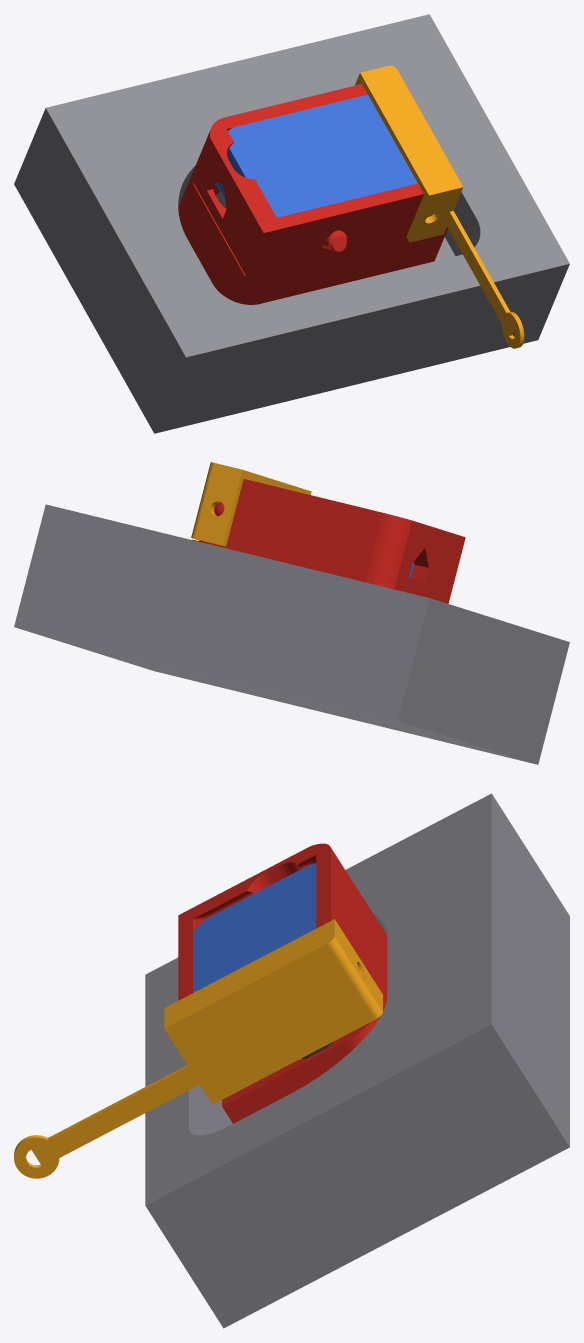
Rendered from dragy_assembly_v4.obj.
3 views of the same model, one above another, from view 1: azimuth 30°, elevation 25°; view 2: azimuth 150°, elevation 25°; view 3: azimuth 270°, elevation 25° (orthographic). The views are drawn at different scales.
Parts seen in each view (by area): view 1: front_swingarm_pad_schematic, dragy_holder, dragy, usbc_cap; view 2: front_swingarm_pad_schematic, dragy_holder, usbc_cap; view 3: front_swingarm_pad_schematic, usbc_cap, dragy_holder, dragy.
Boxes of the visible parts, x1,y1,x2,y2 form: front_swingarm_pad_schematic: (14,14,569,433); dragy_holder: (178,84,447,304); dragy: (215,94,417,217); usbc_cap: (355,65,524,348); front_swingarm_pad_schematic: (14,504,569,764); dragy_holder: (192,479,465,603); usbc_cap: (191,462,311,546); front_swingarm_pad_schematic: (145,793,569,1328); usbc_cap: (14,919,382,1178); dragy_holder: (178,843,387,1123); dragy: (193,863,316,992).
Bounding box in the file's own units: 96.3 × 63.99 × 97.89.
